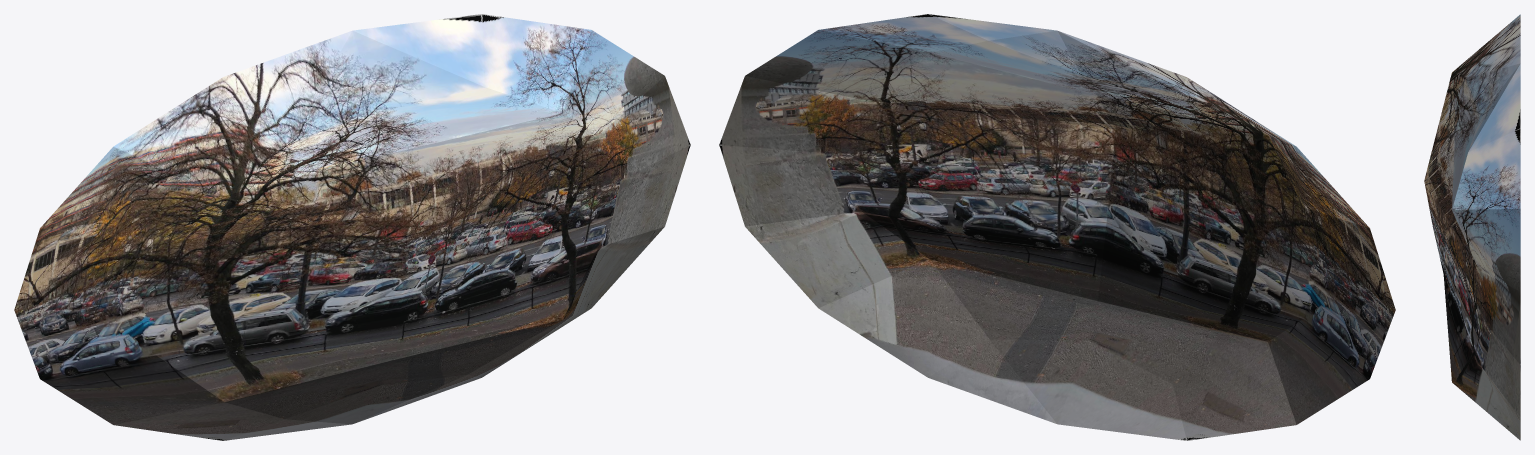
File: Photo_sphere.fbx
The picture shows the model from 3 angles, left to right: view 1: azimuth 30°, elevation 25°; view 2: azimuth 150°, elevation 25°; view 3: azimuth 270°, elevation 25°; orthographic projection. The views are drawn at different scales.
Visible parts, largest first — view 1: Photo_model; view 2: Photo_model; view 3: Photo_model.
Boxes of the visible parts, x1,y1,x2,y2 form: Photo_model: [14, 14, 690, 440]; Photo_model: [719, 14, 1395, 440]; Photo_model: [1424, 14, 1520, 440].
Size of the model in its own units: 155 by 86.18 by 22.96.
Materials: 1 (1 with a texture image).
